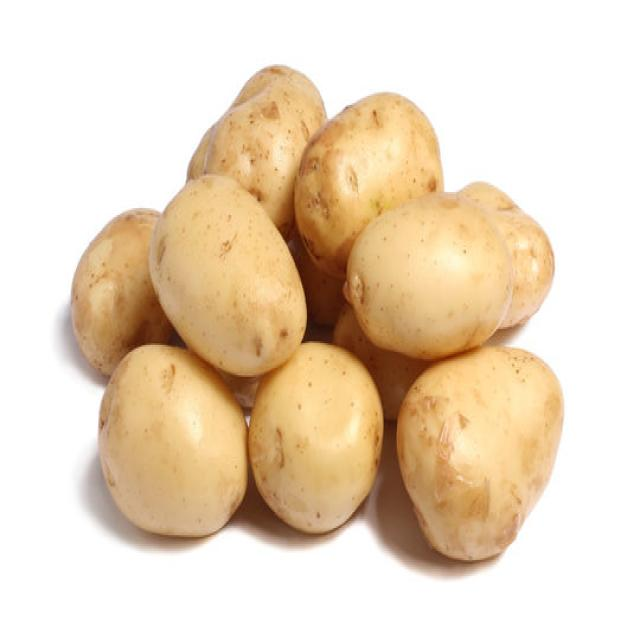Potato: (395, 343, 564, 562), (147, 172, 307, 377), (97, 341, 248, 537), (343, 189, 513, 359), (293, 89, 443, 279), (248, 340, 384, 534), (185, 62, 327, 236), (70, 206, 174, 377), (454, 179, 555, 329), (332, 300, 425, 420)
